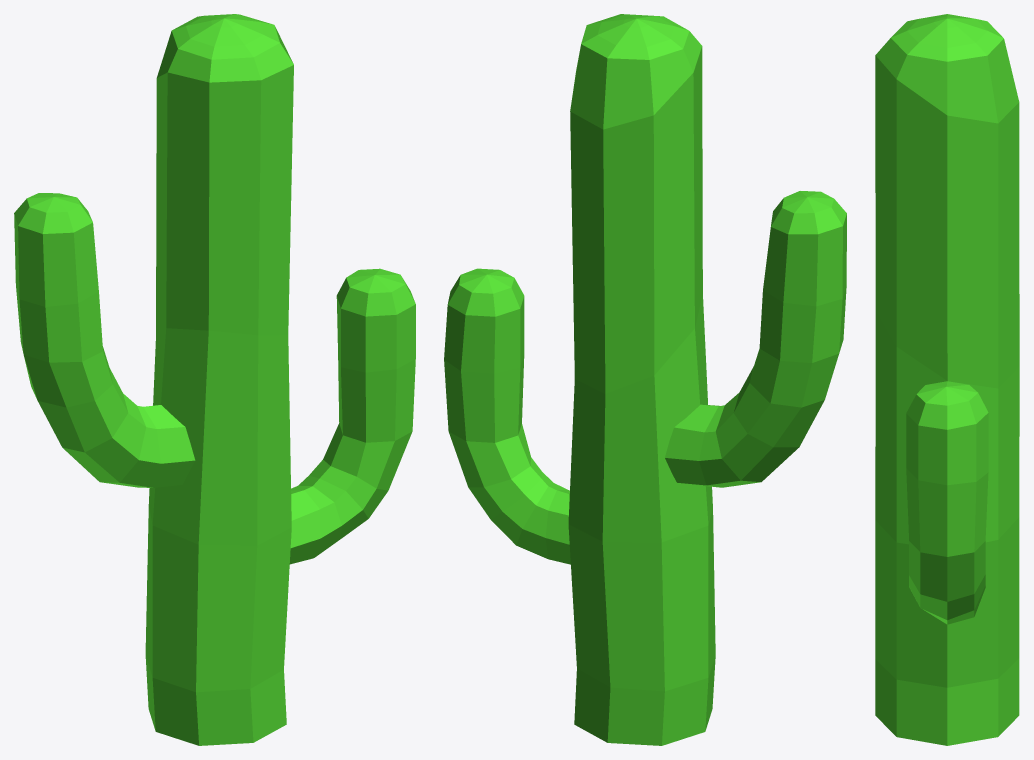
File: SimpleCactus.glb
The picture shows the model from 3 angles, left to right: view 1: azimuth 30°, elevation 25°; view 2: azimuth 150°, elevation 25°; view 3: azimuth 270°, elevation 25°; orthographic projection.
Visible parts, largest first — view 1: Node1, Node2, Node3; view 2: Node1, Node2, Node3; view 3: Node1, Node3.
Boxes of the visible parts, x1=… form: Node1: x1=145, y1=14, x2=293, y2=745; Node2: x1=14, y1=193, x2=195, y2=487; Node3: x1=289, y1=268, x2=415, y2=564; Node1: x1=568, y1=14, x2=715, y2=745; Node2: x1=665, y1=191, x2=846, y2=487; Node3: x1=444, y1=268, x2=570, y2=564; Node1: x1=875, y1=14, x2=1019, y2=745; Node3: x1=906, y1=381, x2=988, y2=624.
Bounding box in the file's own units: 6.35 × 10.74 × 2.
